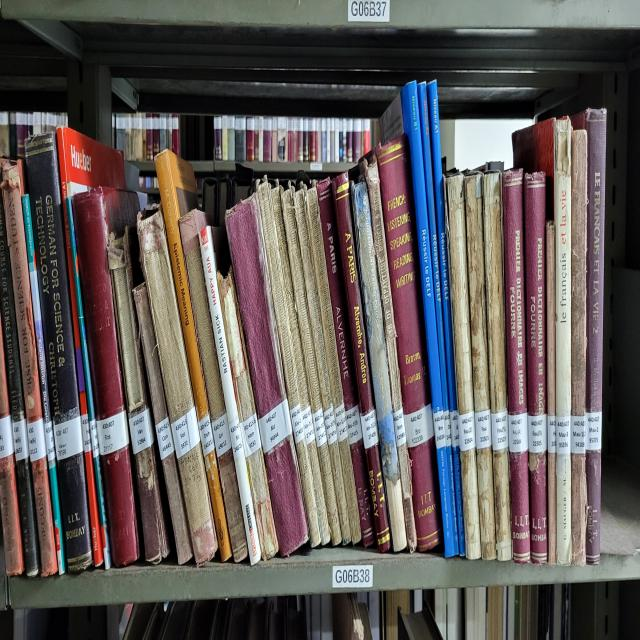Book: (156, 152, 231, 563), (225, 192, 308, 557), (26, 133, 94, 571), (138, 211, 218, 565), (400, 81, 458, 557), (376, 135, 442, 549), (512, 116, 571, 565), (72, 187, 140, 565), (179, 208, 248, 563), (1, 179, 58, 576), (332, 173, 390, 552), (316, 179, 375, 547), (259, 192, 320, 547), (108, 216, 170, 563), (281, 189, 341, 544), (365, 154, 418, 552), (199, 227, 261, 565), (351, 179, 406, 552), (294, 192, 351, 544), (305, 187, 361, 544), (418, 81, 459, 552), (426, 81, 465, 555), (219, 271, 279, 560), (65, 195, 111, 568), (22, 195, 65, 574), (62, 181, 104, 565), (571, 108, 606, 563), (136, 284, 192, 565), (0, 192, 40, 576), (445, 173, 481, 560), (279, 222, 322, 517), (464, 173, 496, 560), (482, 170, 512, 560), (502, 168, 530, 563), (524, 170, 548, 563), (571, 130, 588, 565), (546, 219, 556, 565)
Label: (171, 406, 200, 457), (96, 411, 129, 455), (259, 403, 288, 452), (404, 403, 434, 449), (54, 417, 82, 460), (129, 409, 154, 455), (211, 411, 231, 457), (241, 414, 261, 457), (28, 417, 46, 463), (508, 411, 528, 452), (156, 417, 174, 460), (491, 409, 509, 452), (528, 414, 548, 452), (12, 419, 29, 463), (458, 411, 476, 452), (361, 409, 379, 449), (199, 414, 215, 457), (345, 406, 362, 444), (432, 411, 449, 449), (475, 409, 491, 449), (290, 403, 305, 444), (571, 414, 586, 455), (586, 411, 601, 452), (312, 409, 328, 446), (324, 403, 338, 444), (556, 417, 571, 455), (334, 403, 348, 441), (432, 411, 446, 449), (44, 419, 55, 465), (302, 406, 315, 444), (394, 406, 406, 446), (81, 414, 91, 452), (90, 419, 100, 457), (450, 411, 459, 449), (548, 414, 556, 455)
